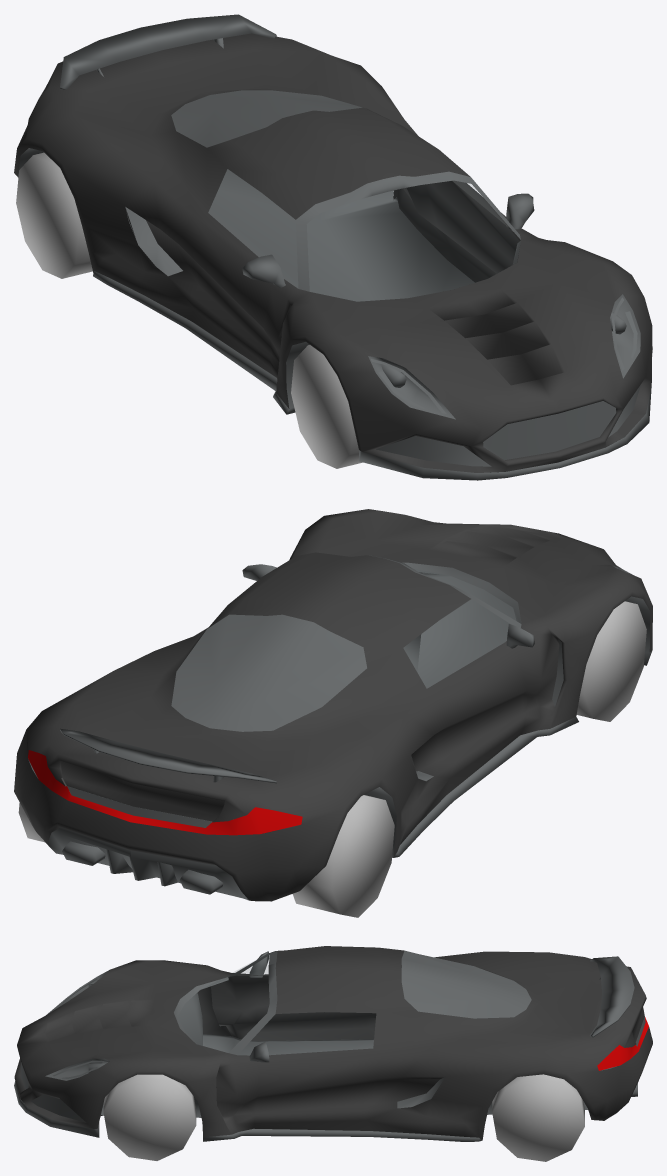
The model's file is Car_50_LOD1.FBX.
The picture shows the model from 3 angles, top to bottom: view 1: azimuth 30°, elevation 25°; view 2: azimuth 150°, elevation 25°; view 3: azimuth 270°, elevation 25°; orthographic projection. The views are drawn at different scales.
Visible parts, largest first — view 1: Body_50_LOD1, Matte_50_LOD1, Wheel_Back_R_LOD1, Wheel_R_LOD1; view 2: Body_50_LOD1, Matte_50_LOD1, Wheel_Back_R_LOD1, Wheel_R_LOD1, Taillights_50_LOD1; view 3: Body_50_LOD1, Matte_50_LOD1, Wheel_Back_L_LOD1, Wheel_L_LOD1, Taillights_50_LOD1, Glass_50_LOD1.
Boxes of the visible parts, box(x1,y1,x2,y2) form: Body_50_LOD1: box(14, 33, 652, 472); Matte_50_LOD1: box(18, 14, 651, 480); Wheel_Back_R_LOD1: box(16, 152, 92, 278); Wheel_R_LOD1: box(291, 345, 362, 468); Body_50_LOD1: box(14, 509, 652, 901); Matte_50_LOD1: box(28, 555, 651, 900); Wheel_Back_R_LOD1: box(292, 795, 394, 917); Wheel_R_LOD1: box(576, 601, 646, 721); Taillights_50_LOD1: box(28, 750, 302, 835); Body_50_LOD1: box(14, 946, 652, 1140); Matte_50_LOD1: box(14, 950, 645, 1141); Wheel_Back_L_LOD1: box(492, 1074, 584, 1161); Wheel_L_LOD1: box(103, 1074, 196, 1160); Taillights_50_LOD1: box(597, 1017, 648, 1070); Glass_50_LOD1: box(207, 956, 268, 986).
Size of the model in its own units: 1.97 by 1.15 by 4.63.
